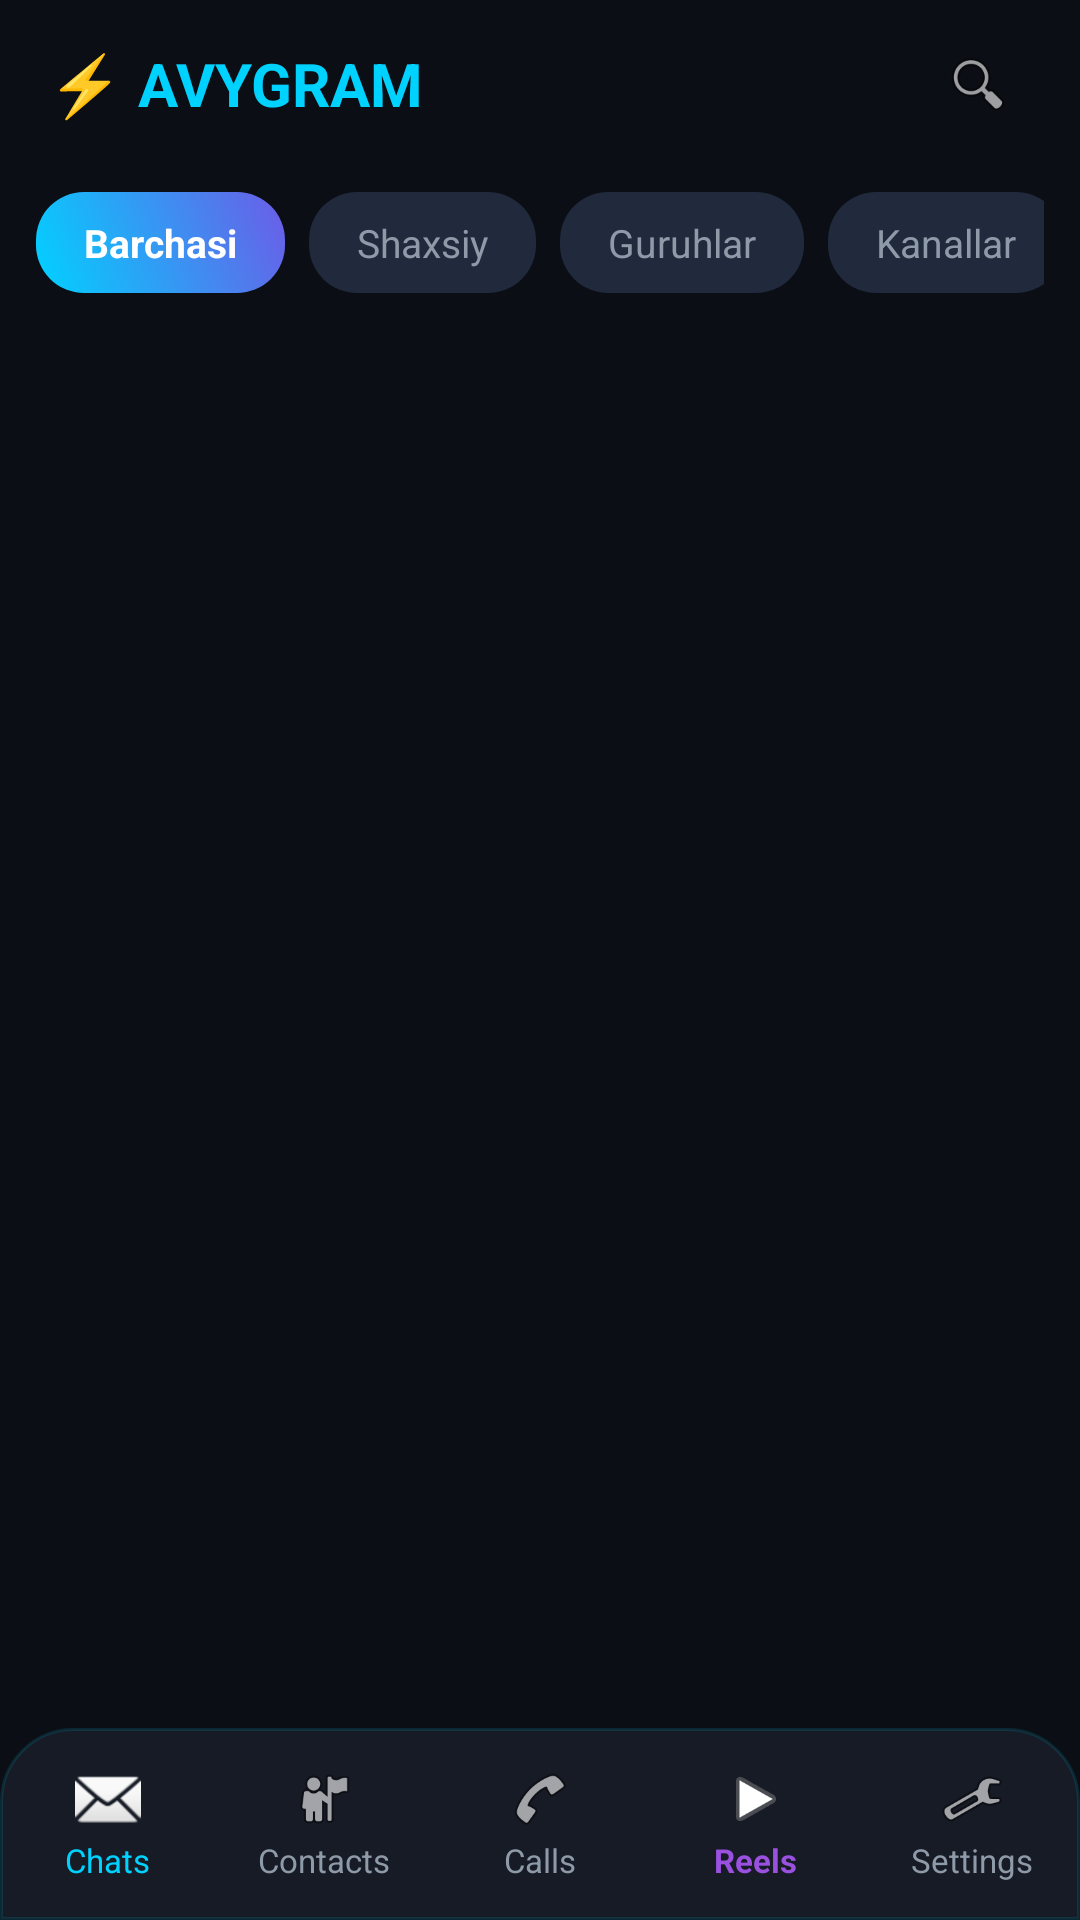

Where icons sit on this 1080 x 1920 app screen, as bbox(x1, y1, x2, y2):
email: bbox(75, 1776, 141, 1823)
manage: bbox(944, 1778, 1000, 1820)
myplaces: bbox(302, 1776, 347, 1822)
play: bbox(736, 1777, 776, 1821)
search: bbox(954, 60, 1002, 109)
